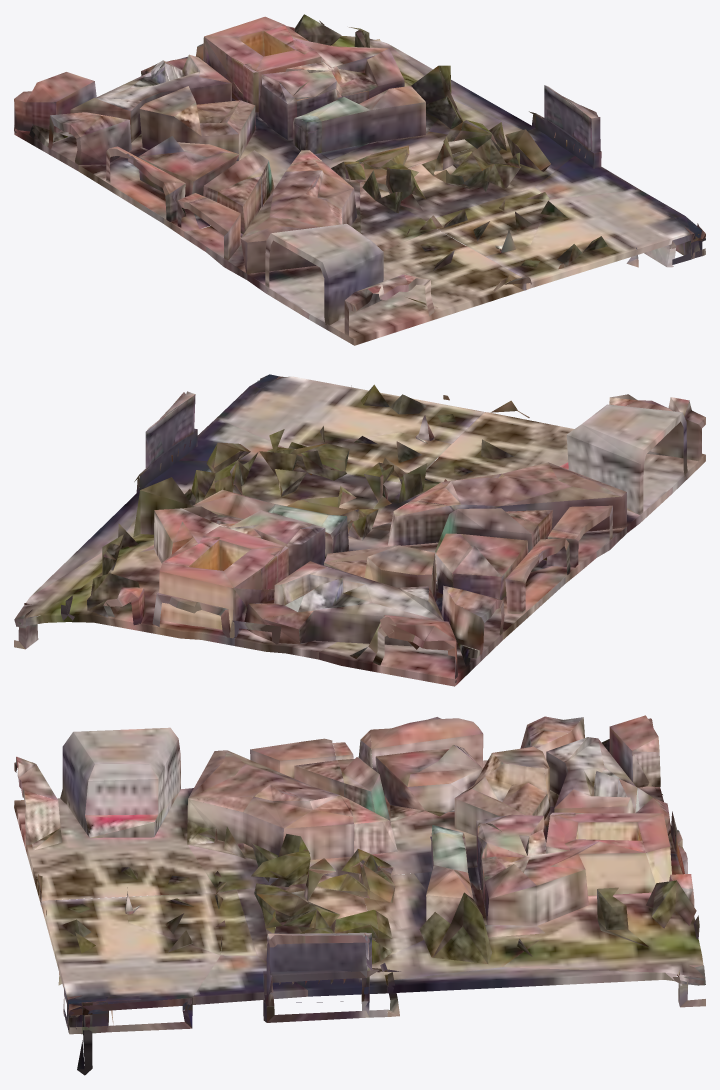
The picture shows the model from 3 angles, top to bottom: view 1: azimuth 30°, elevation 25°; view 2: azimuth 150°, elevation 25°; view 3: azimuth 270°, elevation 25°; orthographic projection. The views are drawn at different scales.
Parts seen in each view (by area): view 1: Mesh_0; view 2: Mesh_0; view 3: Mesh_0.
Boxes of the visible parts, x1,y1,x2,y2 form: Mesh_0: [14, 14, 705, 345]; Mesh_0: [14, 374, 705, 686]; Mesh_0: [14, 715, 705, 1075].
Size of the model in its own units: 266 by 73.92 by 330.
2 materials, 2 textured.
